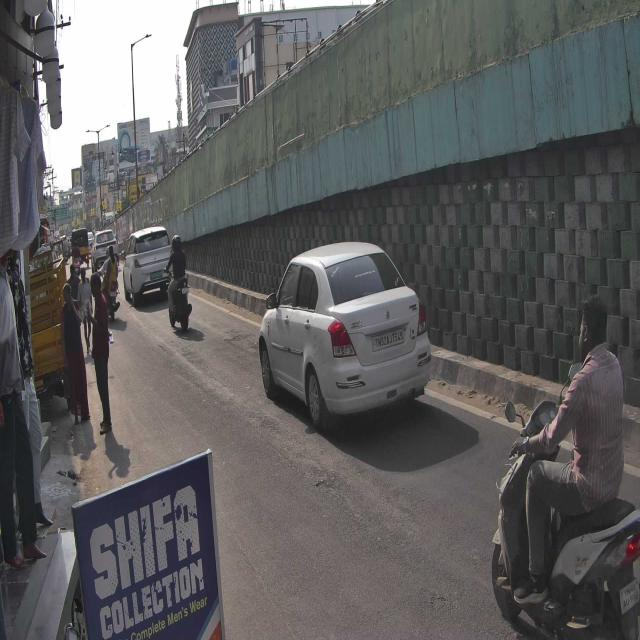single_rider: (490, 290, 640, 640)
